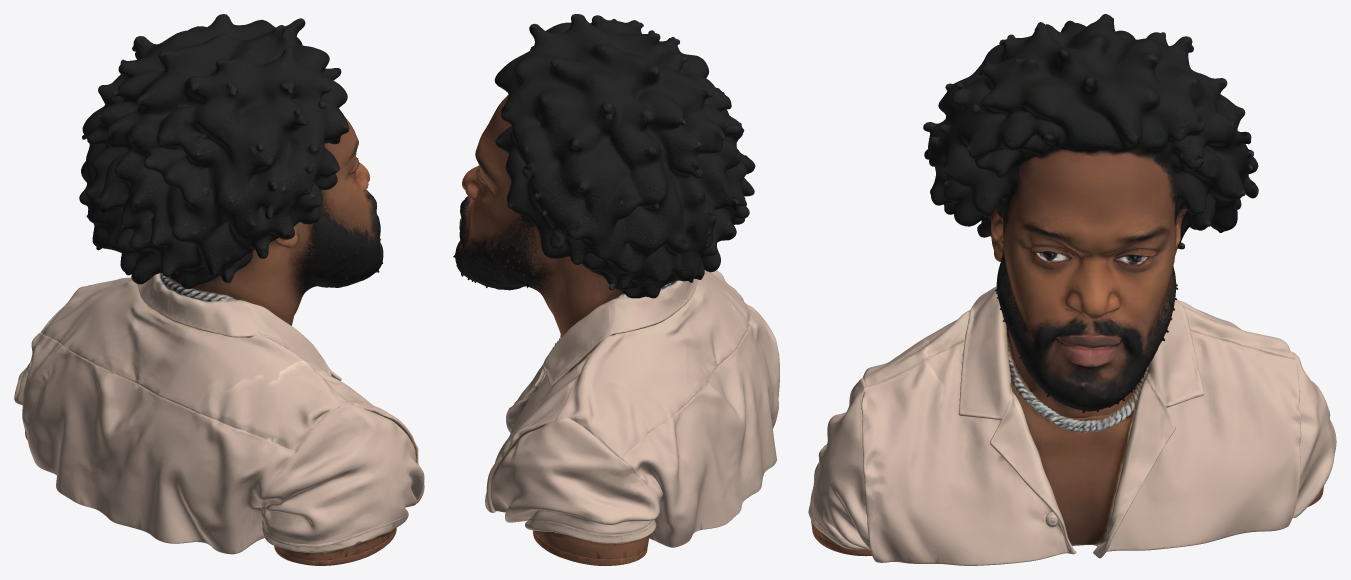
File: head.glb
3 views of the same model, side by side, from view 1: azimuth 30°, elevation 25°; view 2: azimuth 150°, elevation 25°; view 3: azimuth 270°, elevation 25° (orthographic). The views are drawn at different scales.
Parts seen in each view (by area): view 1: tripo_node_470d4fff-bf60-490f-b890-7616c79dacd1; view 2: tripo_node_470d4fff-bf60-490f-b890-7616c79dacd1; view 3: tripo_node_470d4fff-bf60-490f-b890-7616c79dacd1.
Part boxes in pixels (<box>): tripo_node_470d4fff-bf60-490f-b890-7616c79dacd1: <box>14,14,424,565</box>; tripo_node_470d4fff-bf60-490f-b890-7616c79dacd1: <box>453,14,779,565</box>; tripo_node_470d4fff-bf60-490f-b890-7616c79dacd1: <box>808,14,1336,565</box>.
Size of the model in its own units: 0.6792 by 0.98 by 0.935.
1 material, 1 textured.
